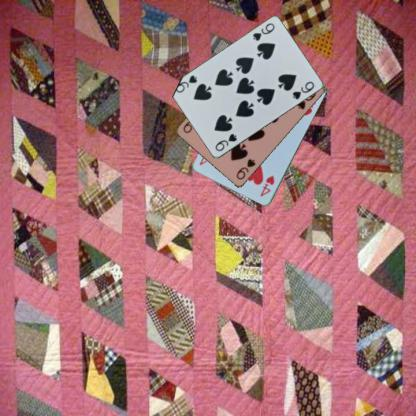4h: (258, 174, 276, 198)
9s: (233, 156, 258, 182), (250, 21, 276, 43), (213, 131, 238, 153)
